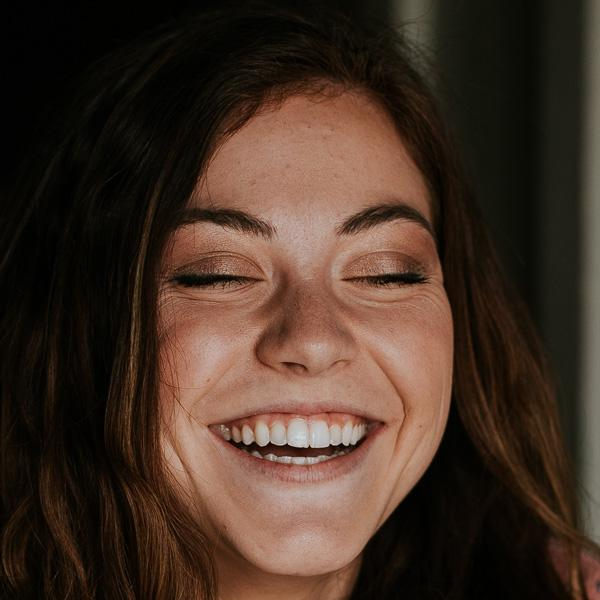Eyes: (161, 242, 269, 305), (334, 241, 431, 307)
